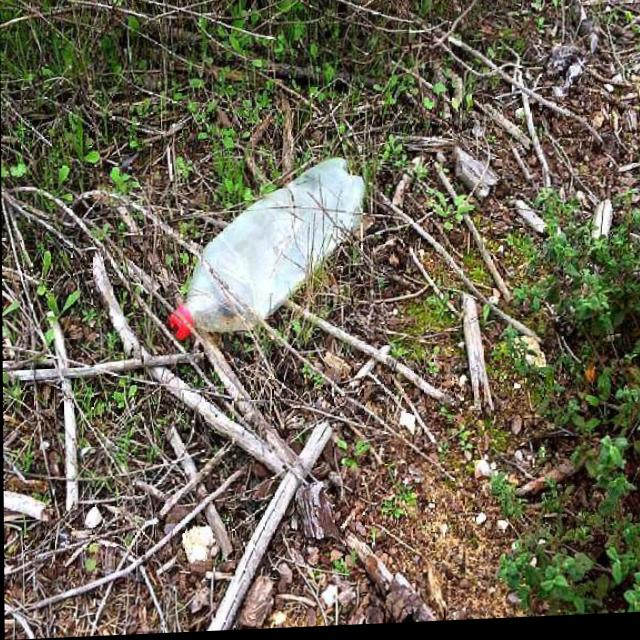Non-biodegradable: (167, 160, 367, 341)
